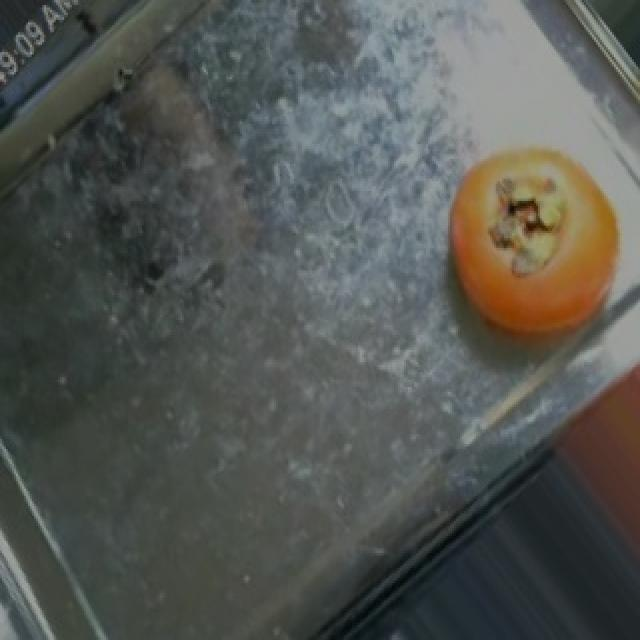Fruit: (420, 119, 640, 382)
